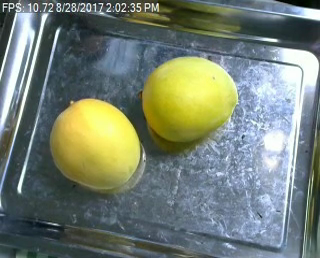Mango: (142, 54, 239, 141), (47, 99, 141, 188)
